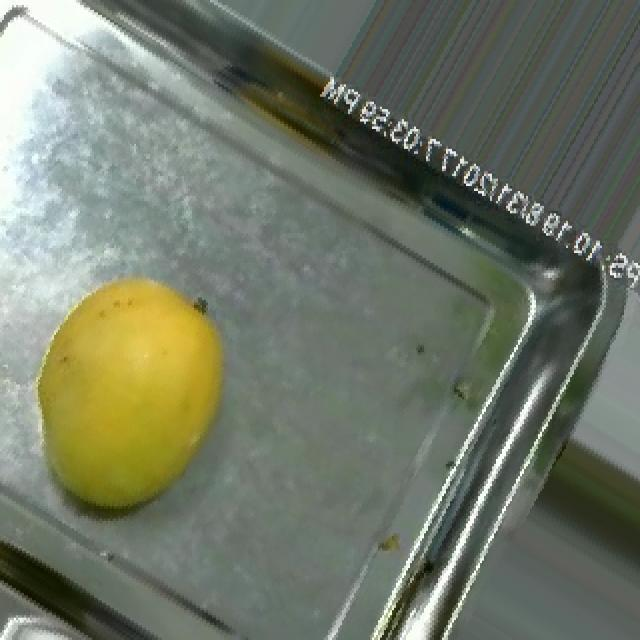fruit: (0, 228, 294, 561)
